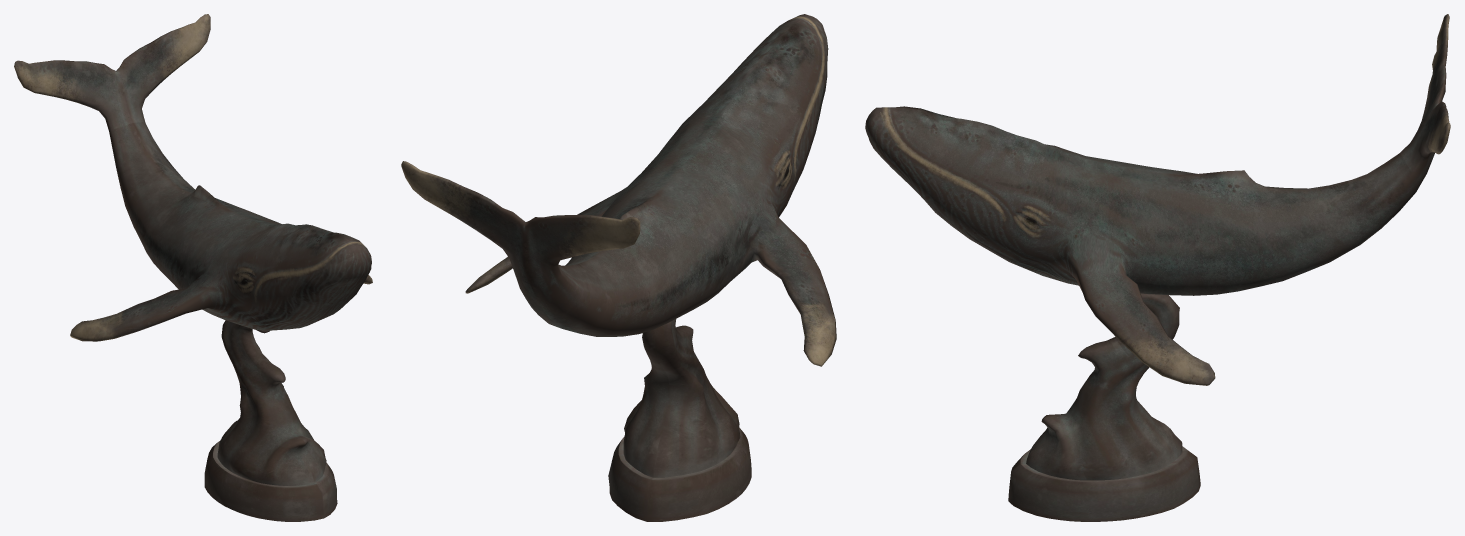
The model's file is bronze_whale_statue_4k.gltf.
3 views of the same model, side by side, from view 1: azimuth 30°, elevation 25°; view 2: azimuth 150°, elevation 25°; view 3: azimuth 270°, elevation 25° (orthographic). The views are drawn at different scales.
Visible parts, largest first — view 1: bronze_whale_statue; view 2: bronze_whale_statue; view 3: bronze_whale_statue.
Part boxes in pixels (bbox=[...]): bronze_whale_statue: bbox=[14, 14, 372, 521]; bronze_whale_statue: bbox=[401, 14, 836, 521]; bronze_whale_statue: bbox=[865, 14, 1450, 521].
Size of the model in its own units: 0.932 by 1.07 by 1.37.
